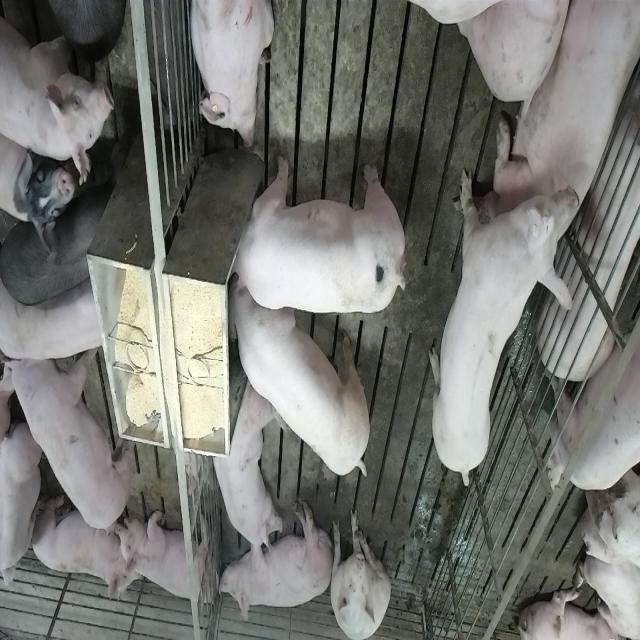Feeding: (228, 278, 375, 480), (222, 154, 400, 316)
Lateral_lying: (214, 498, 334, 624)
Sitting: (328, 504, 391, 638)
Standing: (428, 153, 578, 483), (5, 340, 132, 536), (1, 0, 116, 187), (546, 289, 640, 487), (2, 170, 114, 310), (1, 272, 115, 360), (2, 127, 78, 259)
Sternal_lying: (494, 0, 640, 266), (207, 381, 280, 573), (187, 0, 275, 151), (28, 488, 138, 602), (125, 506, 217, 606)
